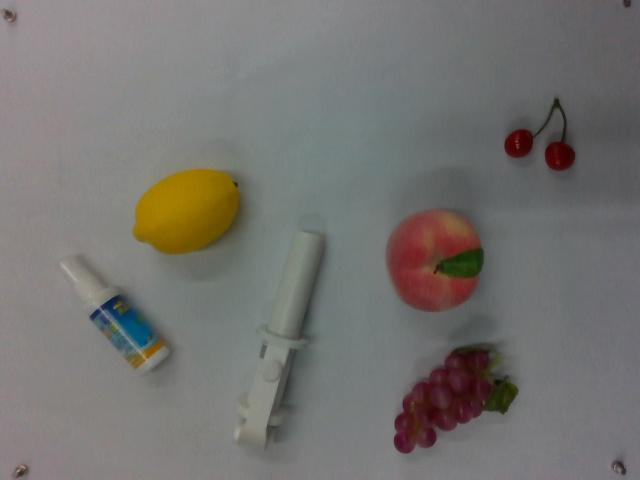cherry: (504, 95, 577, 172)
detergent: (61, 247, 169, 373)
grape: (392, 343, 514, 457)
lemon: (135, 167, 241, 257)
peach: (384, 210, 485, 312)
selfiestick: (235, 227, 327, 456)
